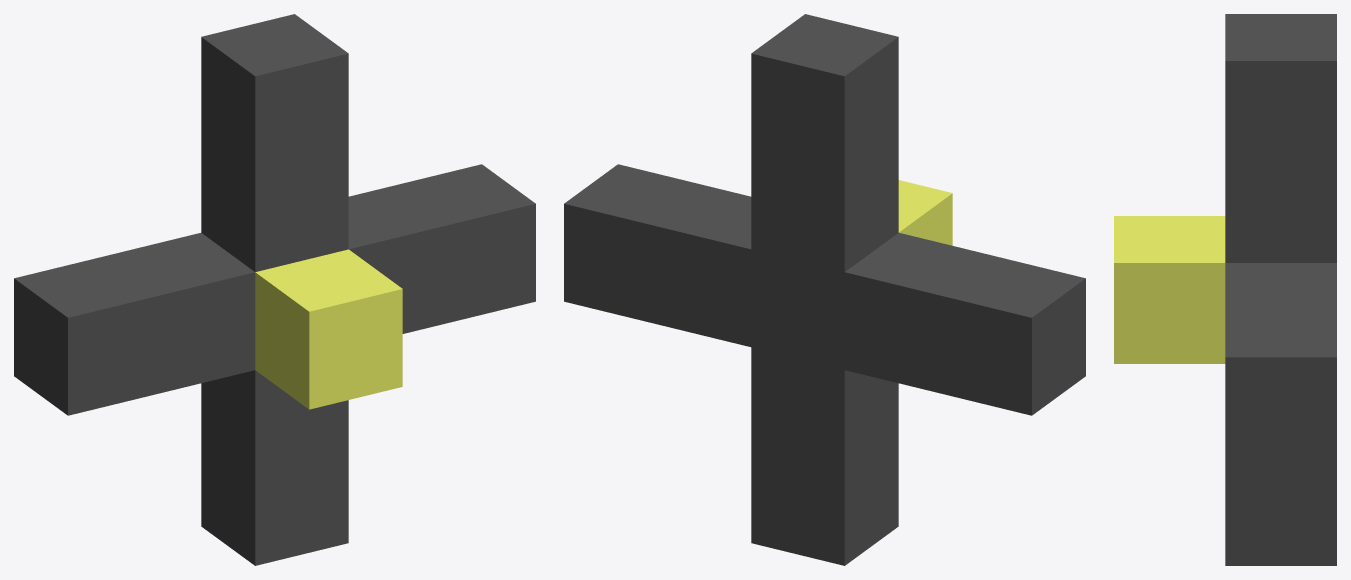
The model's file is fan_engine.obj.
3 views of the same model, side by side, from view 1: azimuth 30°, elevation 25°; view 2: azimuth 150°, elevation 25°; view 3: azimuth 270°, elevation 25° (orthographic). The views are drawn at different scales.
Bounding box in the file's own units: 5 × 5 × 2.
1 material, 1 textured.
